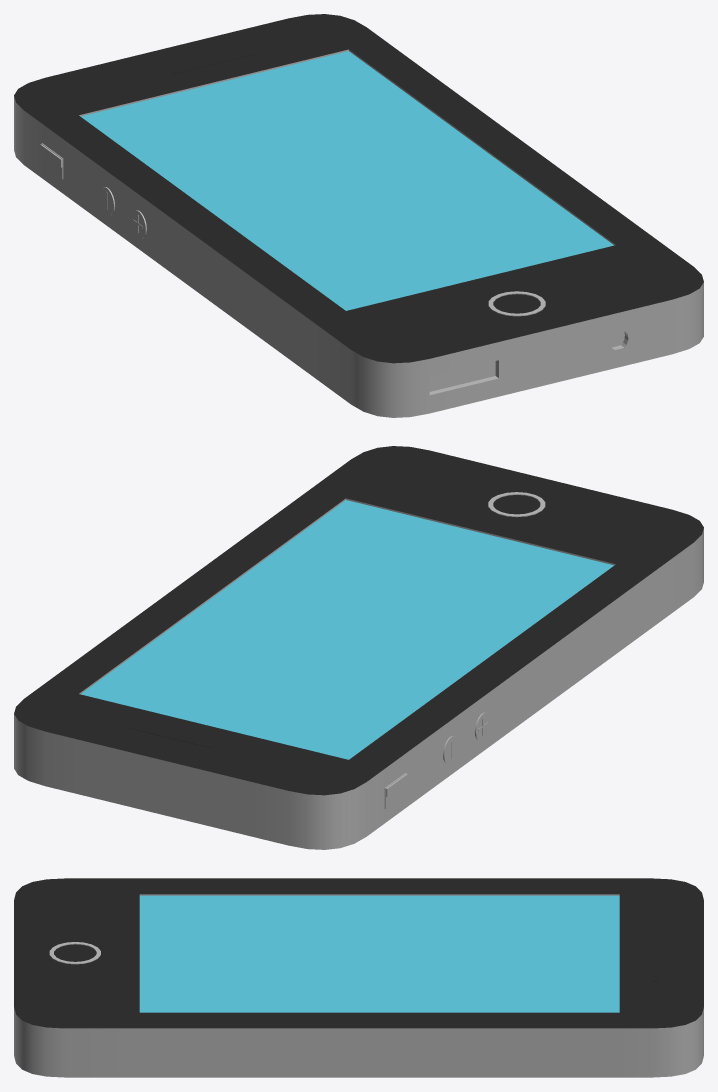
File: iphone.gltf
3 views of the same model, one above another, from view 1: azimuth 30°, elevation 25°; view 2: azimuth 150°, elevation 25°; view 3: azimuth 270°, elevation 25° (orthographic). The views are drawn at different scales.
Parts seen in each view (by area): view 1: node-0; view 2: node-0; view 3: node-0.
Part boxes in pixels (x1,y1,x2,y2): node-0: (14,14,703,417); node-0: (14,446,703,849); node-0: (14,878,703,1077).
Bounding box in the file's own units: 0.0639 × 0.00981 × 0.1233.
